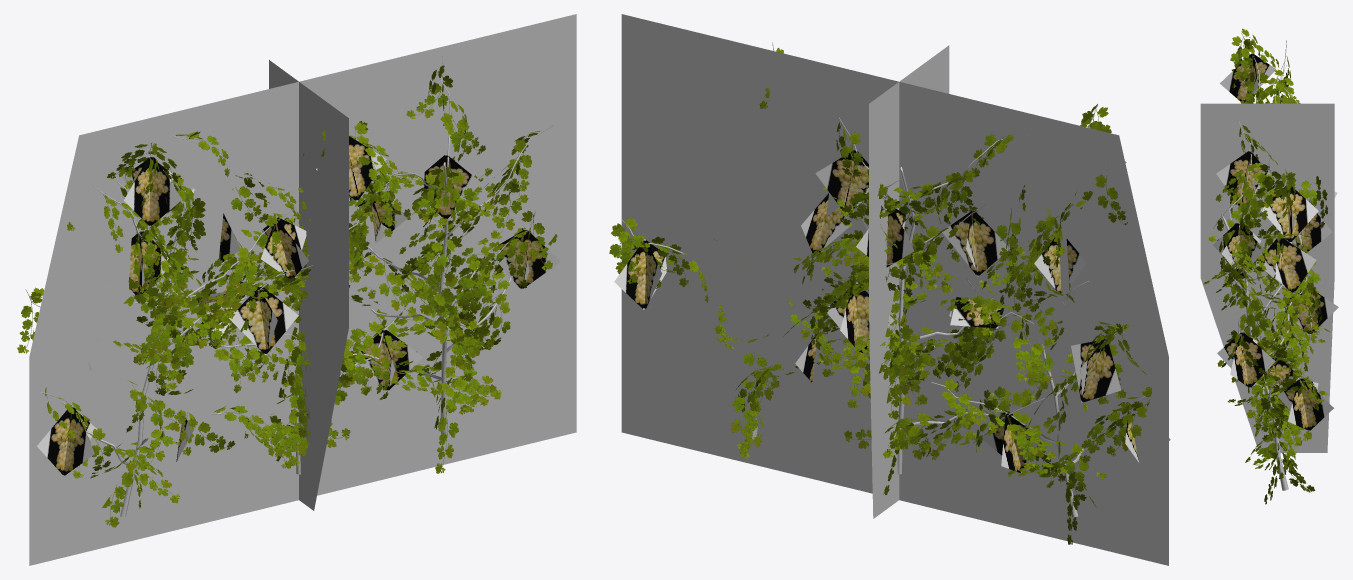
The model's file is Grape_white2.fbx.
3 renders of one model, left to right at view 1: azimuth 30°, elevation 25°; view 2: azimuth 150°, elevation 25°; view 3: azimuth 270°, elevation 25°, orthographic. The views are drawn at different scales.
Visible parts, largest first — view 1: Billboard, LOD0; view 2: Billboard, LOD0; view 3: LOD0, Billboard.
Part boxes in pixels (x1,y1,x2,y2): Billboard: (29, 14, 576, 565); LOD0: (17, 55, 560, 527); Billboard: (621, 14, 1168, 565); LOD0: (609, 42, 1170, 544); LOD0: (1203, 28, 1338, 504); Billboard: (1200, 103, 1334, 452).
Size of what is drawn, in the model's own units: 368 by 270 by 96.9.
